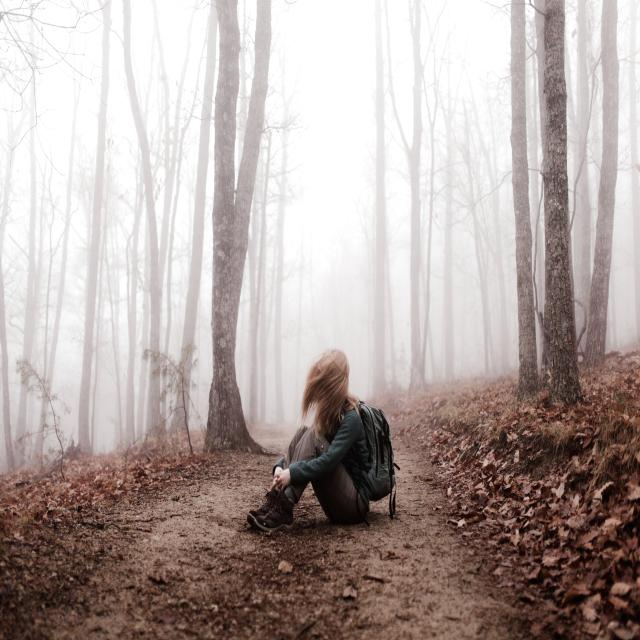adult: (247, 347, 371, 532)
